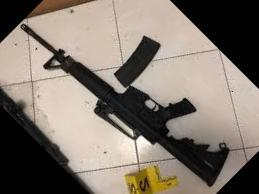larga: (21, 23, 230, 187)
